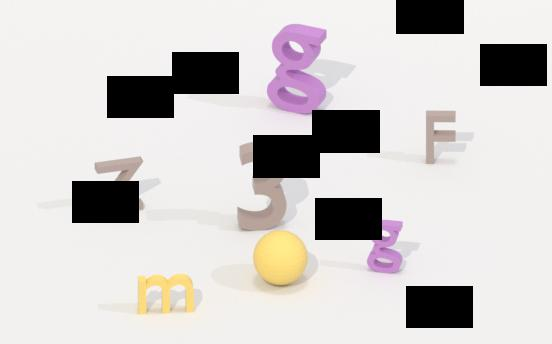3: (228, 141, 294, 231)
F: (421, 106, 467, 169)
cau: (249, 228, 311, 288)
g: (262, 24, 332, 117), (365, 217, 410, 277)
m: (133, 271, 199, 317)
z: (89, 156, 149, 218)
